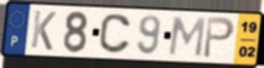8: (62, 9, 91, 54)
9: (135, 14, 163, 56)
C: (97, 12, 132, 55)
K: (29, 9, 58, 52)
M: (167, 15, 208, 59)
P: (201, 16, 237, 60)
